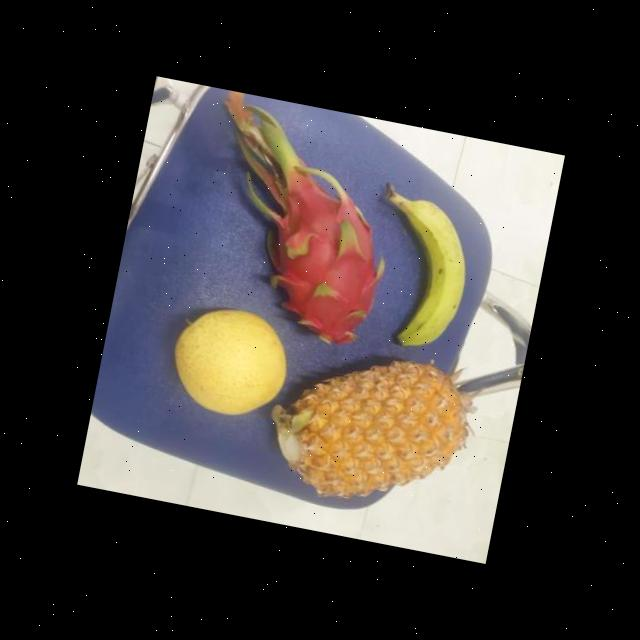banana: (362, 188, 478, 360)
pear: (164, 301, 296, 427)
pineapple: (264, 340, 472, 520)
pitaya: (249, 168, 398, 360)
